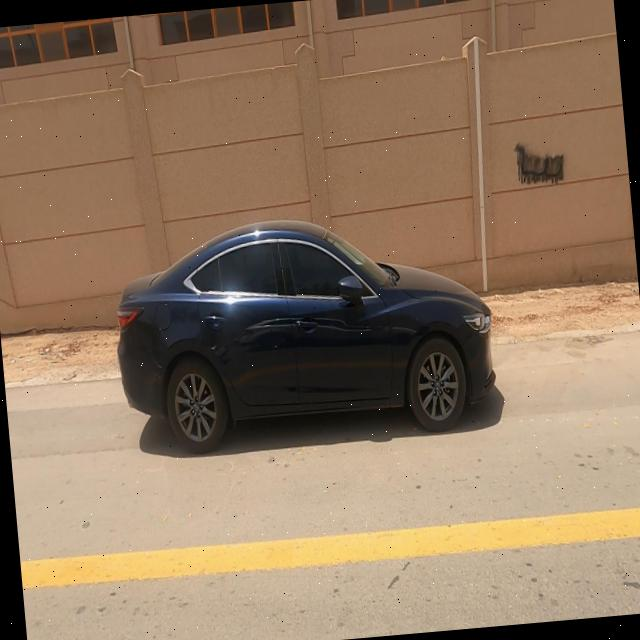Graffiti: (511, 137, 569, 188)
